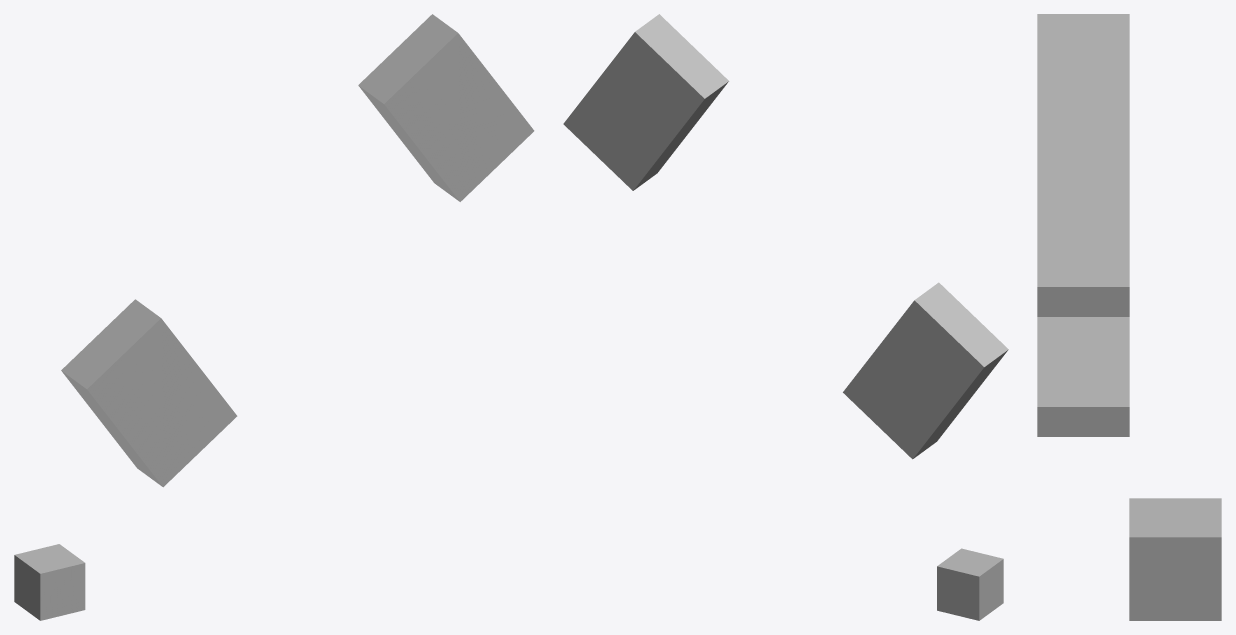
File: expected.glb
3 renders of one model, left to right at view 1: azimuth 30°, elevation 25°; view 2: azimuth 150°, elevation 25°; view 3: azimuth 270°, elevation 25°, orthographic. The views are drawn at different scales.
Parts seen in each view (by area): view 1: Source mesh (×3); view 2: Source mesh (×3); view 3: Source mesh (×3).
Part boxes in pixels (x1,y1,x2,y2): Source mesh (×3): (14, 14, 534, 620); Source mesh (×3): (563, 14, 1008, 620); Source mesh (×3): (1037, 14, 1221, 620).
Bounding box in the file's own units: 10.41 × 10.86 × 2.
Materials: 4 (4 with a texture image).
